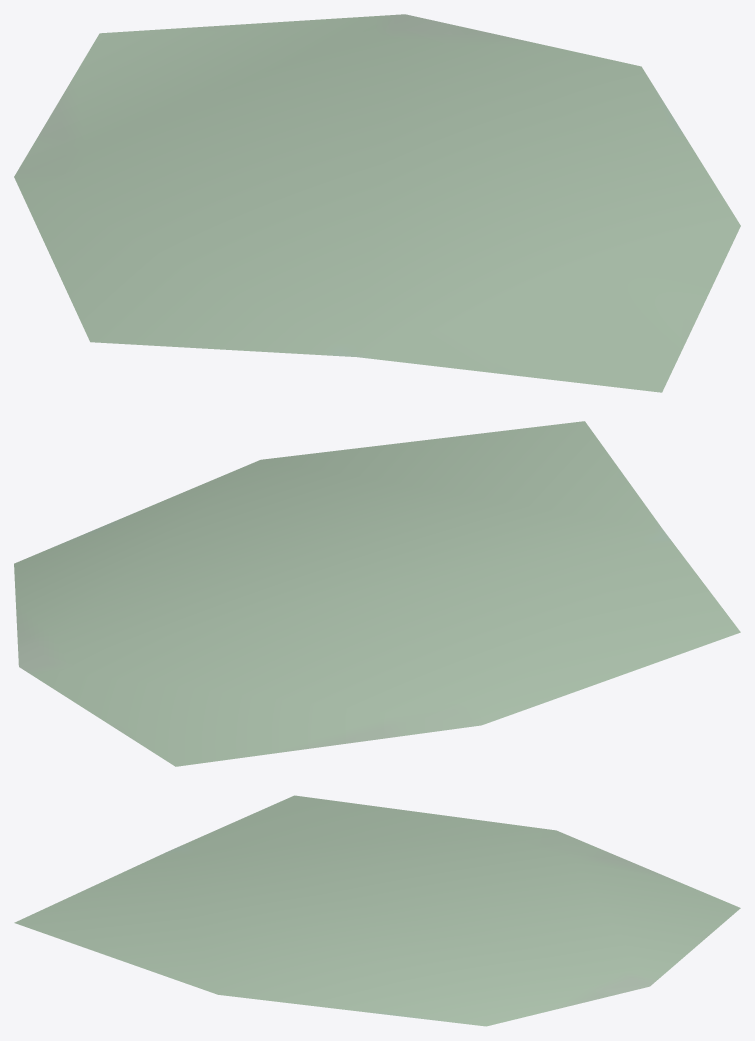
Rendered from TROLLHOLE02_HOLECAP152.fbx.
3 renders of one model, top to bottom at view 1: azimuth 30°, elevation 25°; view 2: azimuth 150°, elevation 25°; view 3: azimuth 270°, elevation 25°, orthographic. The views are drawn at different scales.
Visible parts, largest first — view 1: TROLLHOLE02_HOLECAP152; view 2: TROLLHOLE02_HOLECAP152; view 3: TROLLHOLE02_HOLECAP152.
Boxes of the visible parts, bbox=[...] form: TROLLHOLE02_HOLECAP152: bbox=[14, 14, 740, 392]; TROLLHOLE02_HOLECAP152: bbox=[14, 421, 740, 766]; TROLLHOLE02_HOLECAP152: bbox=[14, 795, 740, 1026].
Bounding box in the file's own units: 40602 × 607 × 52497.
Materials: 1 (1 with a texture image).
